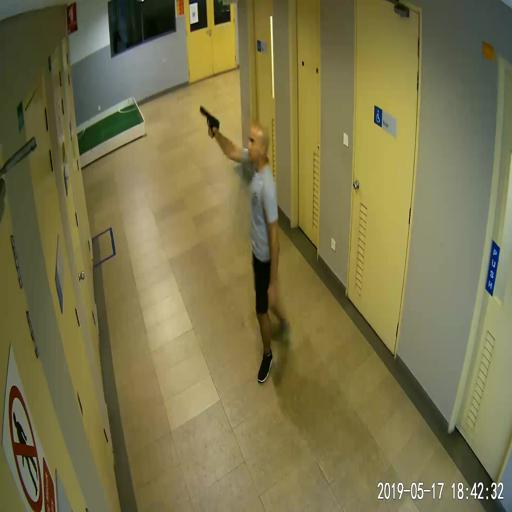pistol: (200, 107, 219, 138)
